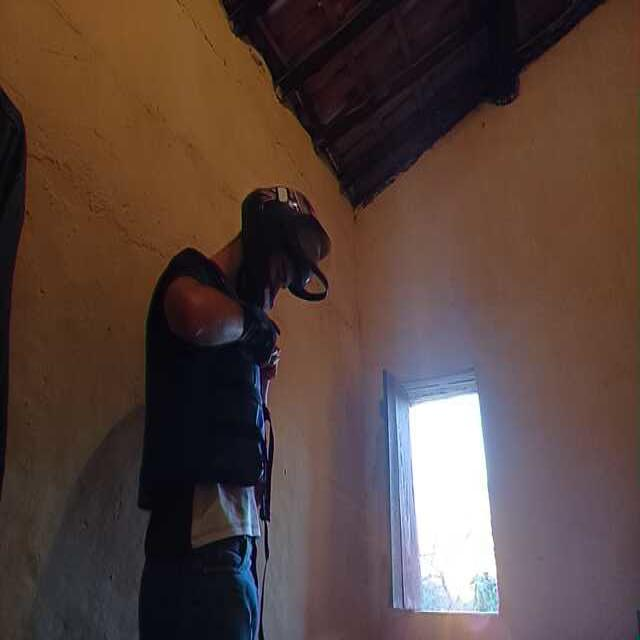capacete: (242, 186, 335, 312)
colete: (142, 250, 264, 499)
pessoa: (140, 222, 304, 634)
